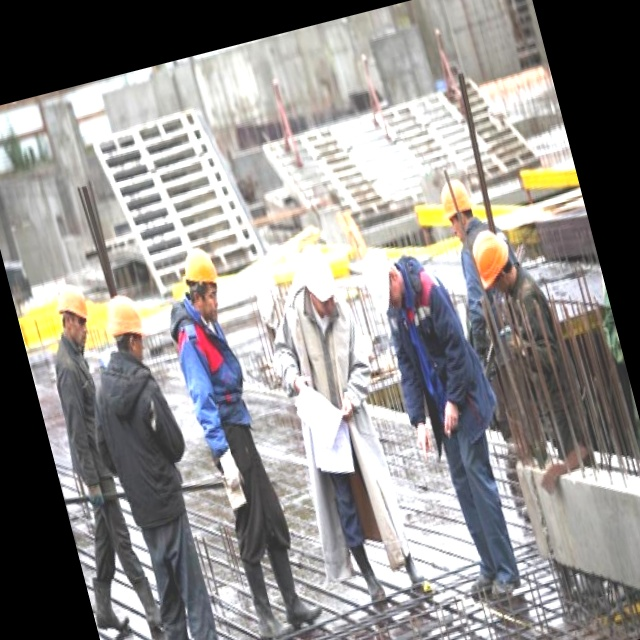Con_Casco: (173, 242, 226, 319), (357, 242, 410, 315)
